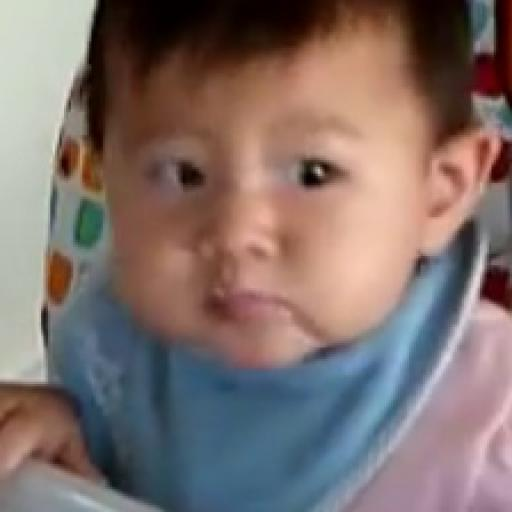Autism: (57, 4, 512, 450)
